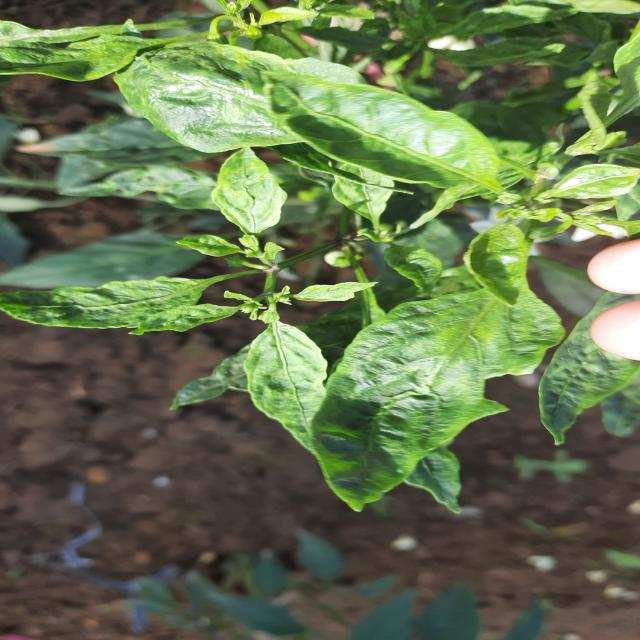thrips: (293, 306, 572, 514), (225, 67, 534, 194), (0, 262, 225, 349), (230, 322, 350, 456)
